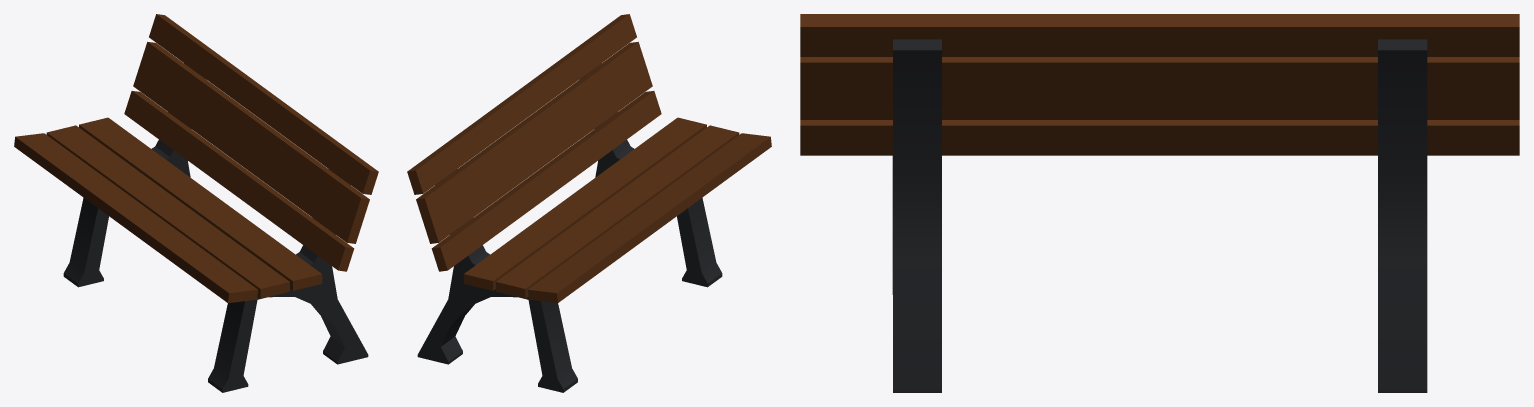
File: chair.fbx
3 views of the same model, side by side, from view 1: azimuth 30°, elevation 25°; view 2: azimuth 150°, elevation 25°; view 3: azimuth 270°, elevation 25° (orthographic). The views are drawn at different scales.
Visible parts, largest first — view 1: Cube.004; view 2: Cube.004; view 3: Cube.004.
Part boxes in pixels (box(x1,y1,x2,y2)): Cube.004: box(14, 14, 378, 392); Cube.004: box(407, 14, 771, 392); Cube.004: box(800, 14, 1519, 392).
Size of the model in its own units: 113 by 249 by 137.
